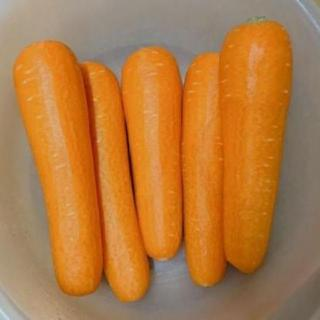carrot: (12, 37, 102, 297), (218, 13, 294, 286), (85, 60, 151, 304), (120, 44, 183, 264), (184, 51, 228, 298)
